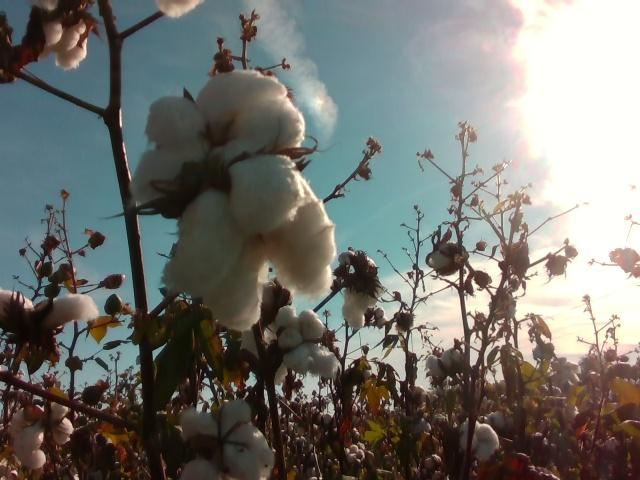cotton_ready: (162, 156, 336, 328), (131, 71, 306, 205), (181, 400, 272, 480), (10, 399, 75, 470), (279, 307, 341, 375), (0, 290, 100, 330), (35, 0, 89, 69), (339, 252, 381, 328), (460, 419, 497, 458), (156, 0, 203, 16)
